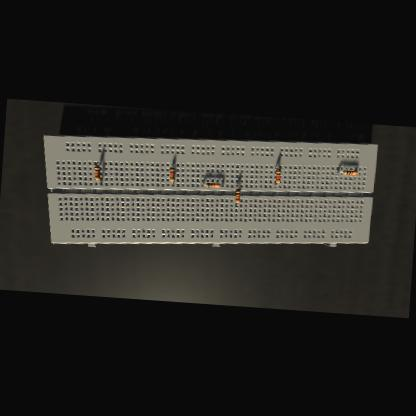breadboard: (36, 120, 378, 266)
resistor: (342, 169, 358, 175), (94, 164, 100, 180), (276, 168, 282, 182), (170, 166, 176, 180), (235, 188, 241, 202), (206, 183, 221, 188)
wire: (98, 180, 103, 183), (98, 162, 102, 165), (275, 182, 278, 185), (236, 184, 238, 188), (275, 166, 278, 168), (172, 163, 174, 166), (172, 181, 174, 184), (221, 184, 223, 186), (236, 203, 238, 205), (203, 184, 206, 185), (336, 172, 344, 172)
